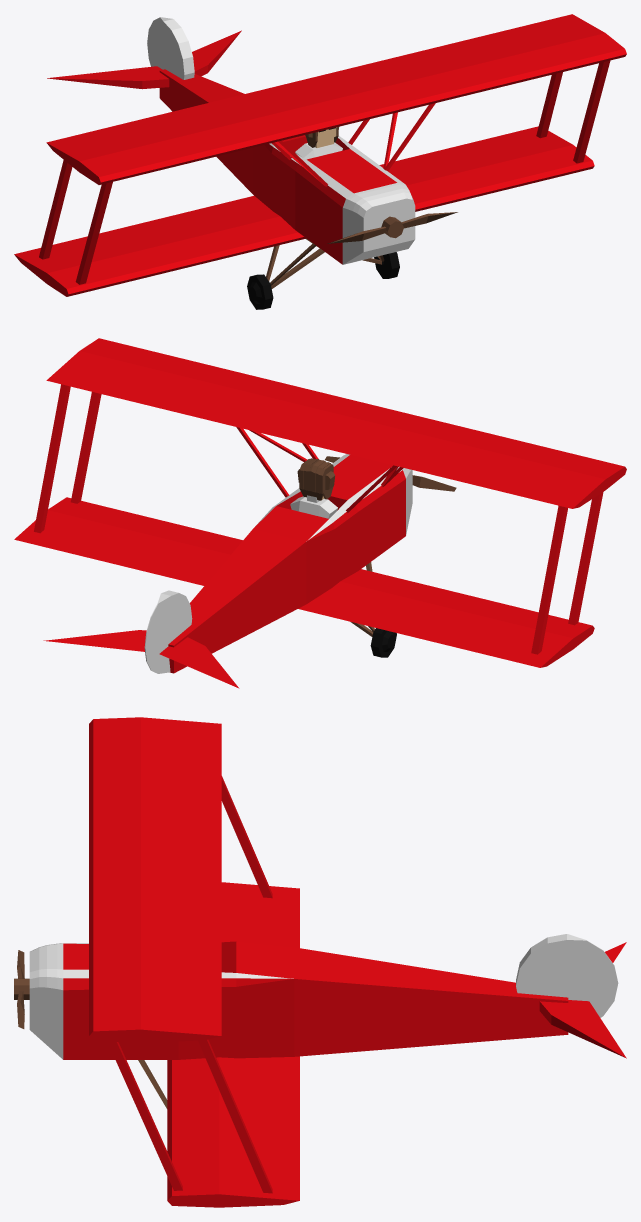
The picture shows the model from 3 angles, top to bottom: view 1: azimuth 30°, elevation 25°; view 2: azimuth 150°, elevation 25°; view 3: azimuth 270°, elevation 25°; orthographic projection. The views are drawn at different scales.
Parts seen in each view (by area): view 1: Wings, Airplane Body, Tail, Rudder, Propeller, WheelsStructre, Wheel_R, Wheel_L, PilotBody; view 2: Wings, Airplane Body, Tail, Rudder, PilotHelmet, PilotBody, Wheel_R; view 3: Wings, Airplane Body, Rudder, Tail, Propeller.
Part boxes in pixels (bbox=[...]): Wings: bbox=[14, 14, 626, 296]; Airplane Body: bbox=[159, 69, 415, 264]; Tail: bbox=[47, 30, 241, 89]; Rudder: bbox=[147, 17, 194, 79]; Propeller: bbox=[327, 212, 457, 243]; WheelsStructre: bbox=[266, 238, 384, 288]; Wheel_R: bbox=[247, 274, 273, 309]; Wheel_L: bbox=[374, 252, 399, 278]; PilotBody: bbox=[295, 142, 342, 159]; Wings: bbox=[14, 338, 626, 667]; Airplane Body: bbox=[168, 454, 412, 673]; Tail: bbox=[43, 630, 239, 688]; Rudder: bbox=[144, 590, 192, 673]; PilotHelmet: bbox=[297, 458, 335, 500]; PilotBody: bbox=[290, 495, 337, 518]; Wheel_R: bbox=[370, 628, 396, 657]; Wings: bbox=[89, 717, 299, 1207]; Airplane Body: bbox=[29, 941, 568, 1059]; Rudder: bbox=[516, 934, 618, 1017]; Tail: bbox=[539, 942, 626, 1058]; Propeller: bbox=[14, 950, 29, 1028].
Bounding box in the file's own units: 1600 × 615 × 1327.
